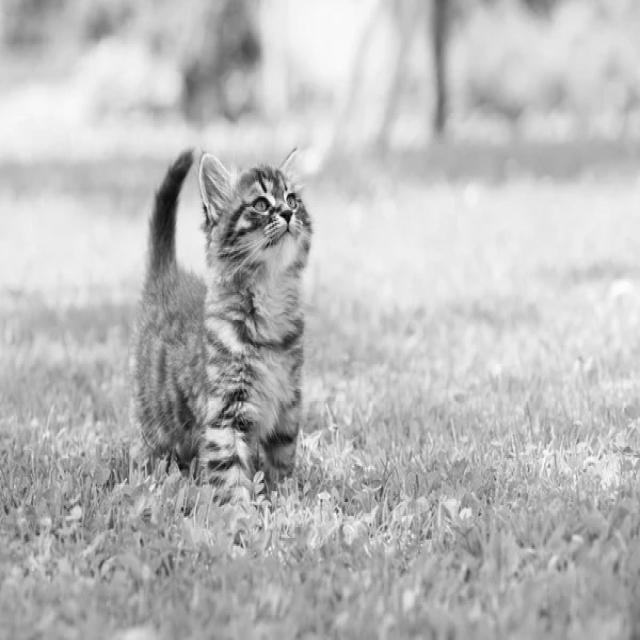Animal: (133, 157, 320, 516)
